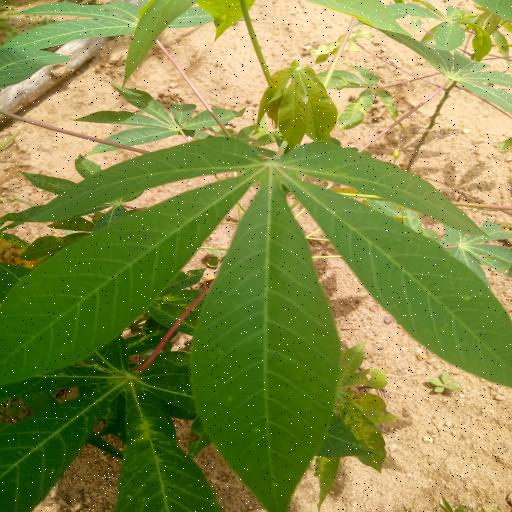Cassava_Healthy: (3, 131, 512, 511)
